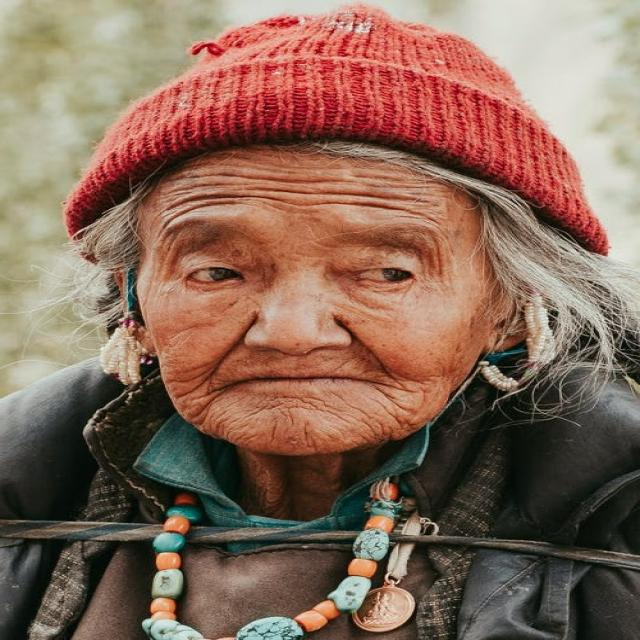Wrinkles: (164, 195, 438, 223), (224, 188, 430, 203), (158, 201, 241, 236), (200, 173, 353, 183), (212, 165, 300, 173), (167, 185, 208, 193), (442, 231, 455, 256), (194, 372, 213, 389), (204, 392, 223, 409), (357, 176, 402, 181), (387, 411, 402, 426), (164, 329, 189, 336), (432, 232, 438, 254), (192, 409, 204, 419), (255, 200, 273, 206), (379, 390, 390, 398), (177, 392, 191, 398), (425, 222, 439, 228), (371, 186, 401, 188), (202, 369, 209, 375), (208, 184, 246, 185), (194, 375, 202, 379), (167, 380, 172, 384), (182, 380, 191, 382), (172, 381, 180, 382)
